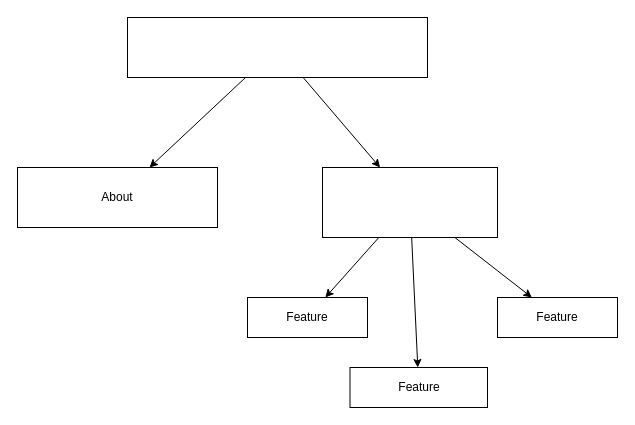
This 635x425 diagram has some shape labels left out. The box of each missing label's shape, as (x1, y1, x2, y2) in pixels:
AppComponent: (126, 16, 428, 78)
Features: (322, 166, 498, 238)
